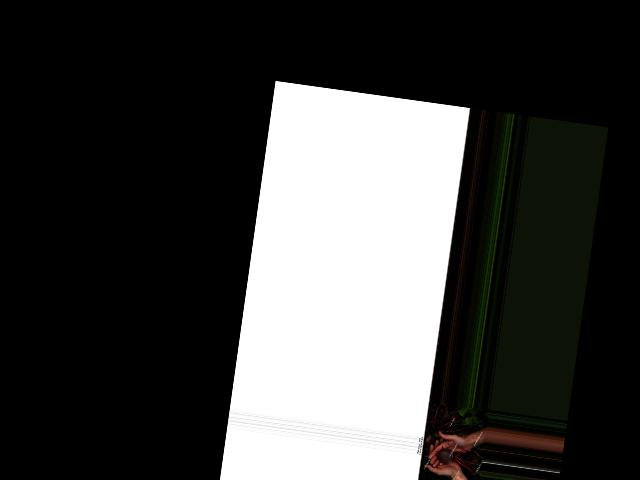beet: (433, 443, 482, 477)
